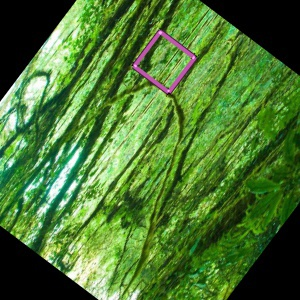square: (129, 27, 199, 96)
